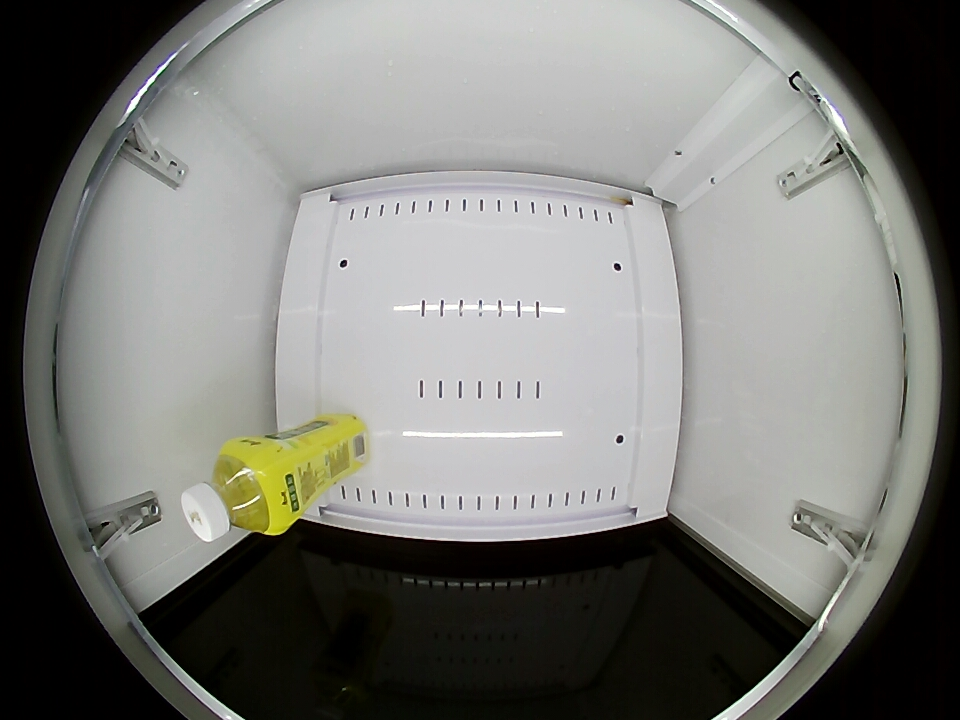bingtangxueli: (182, 441, 291, 542)
